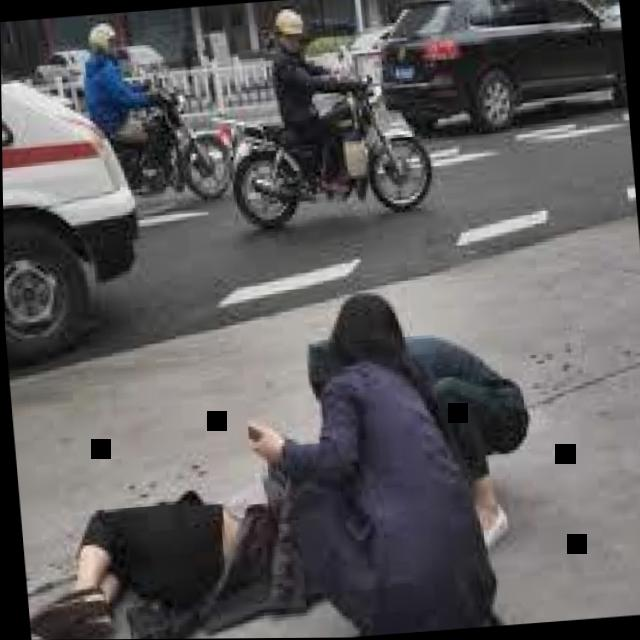Fall-Detected: (12, 412, 333, 640)
